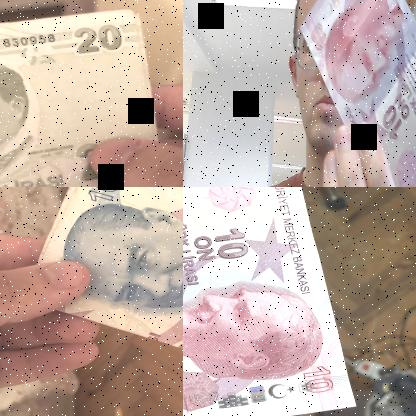5 TL: (0, 7, 182, 186)
